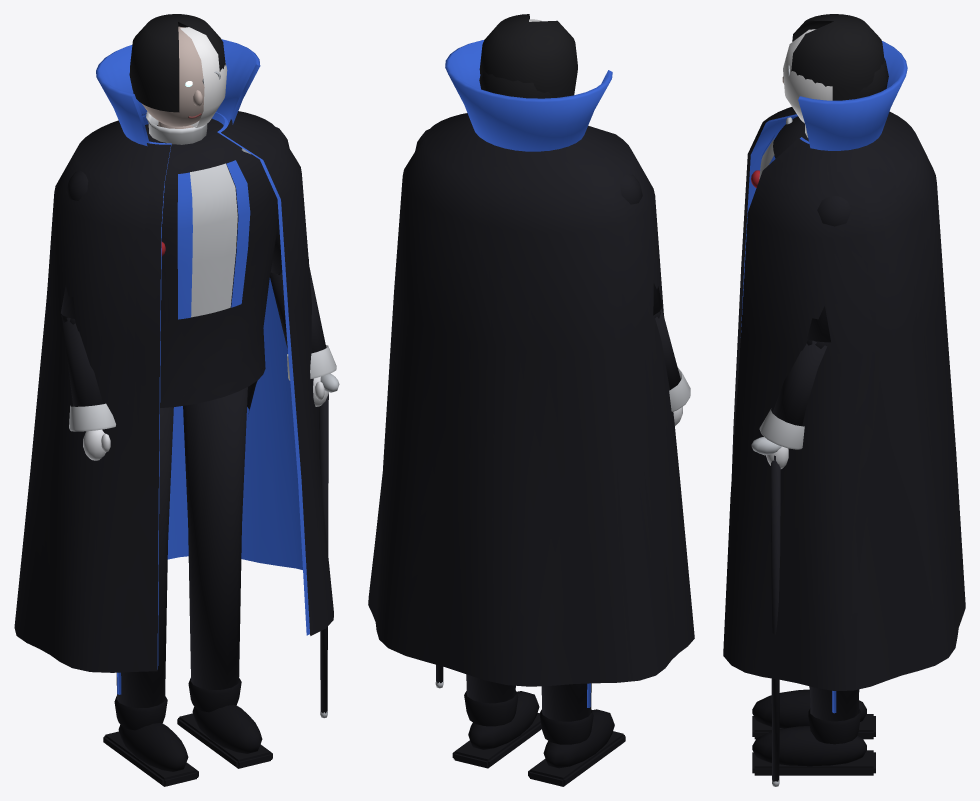
The model's file is masked_patron.glb.
3 views of the same model, side by side, from view 1: azimuth 30°, elevation 25°; view 2: azimuth 150°, elevation 25°; view 3: azimuth 270°, elevation 25° (orthographic).
Parts seen in each view (by area): view 1: Cape, Tail_SapphireSatin, Patron_Root_EveningBlack, LegLegB, Patron_Root_DressShirt, Head_SlickHair, LegA_PatentShoe, LegB_PatentShoe, LegLegA, Patron_Root_SapphireSatin, ArmB_EveningBlack, ArmA_EveningBlack (+5 smaller); view 2: Cape, Tail_SapphireSatin, Head_SlickHair, LegA_PatentShoe, LegB_PatentShoe, LegLegA, ArmA_EveningBlack, LegLegB; view 3: Cape, Head_SlickHair, Tail_SapphireSatin, ArmB_EveningBlack, LegB_PatentShoe, LegA_PatentShoe, HalfMask, LegLegB, CuffArmB, Patron_Root_EveningBlack.
Boxes of the visible parts, x1,y1,x2,y2 form: Cape: (14, 111, 333, 672); Tail_SapphireSatin: (96, 39, 309, 669); Patron_Root_EveningBlack: (145, 118, 278, 413); LegLegB: (183, 387, 247, 689); Patron_Root_DressShirt: (146, 111, 237, 317); Head_SlickHair: (129, 14, 225, 112); LegA_PatentShoe: (103, 696, 198, 786); LegB_PatentShoe: (177, 678, 272, 768); LegLegA: (116, 407, 173, 708); Patron_Root_SapphireSatin: (177, 160, 250, 319); ArmB_EveningBlack: (270, 127, 328, 713); ArmA_EveningBlack: (61, 171, 103, 406); Cape: (368, 113, 694, 686); Tail_SapphireSatin: (445, 40, 612, 151); Head_SlickHair: (479, 14, 577, 98); LegA_PatentShoe: (528, 709, 625, 786); LegB_PatentShoe: (452, 690, 541, 768); LegLegA: (541, 683, 591, 721); ArmA_EveningBlack: (620, 174, 680, 389); LegLegB: (466, 674, 515, 703); Cape: (723, 107, 965, 690); Head_SlickHair: (791, 14, 888, 100); Tail_SapphireSatin: (740, 41, 907, 337); ArmB_EveningBlack: (771, 196, 851, 781); LegB_PatentShoe: (752, 708, 875, 775); LegA_PatentShoe: (752, 686, 875, 739); HalfMask: (783, 29, 832, 122); LegLegB: (810, 686, 859, 721); CuffArmB: (759, 408, 804, 449); Patron_Root_EveningBlack: (773, 116, 808, 158).
Size of the model in its own units: 0.7488 by 1.77 by 0.5362.
